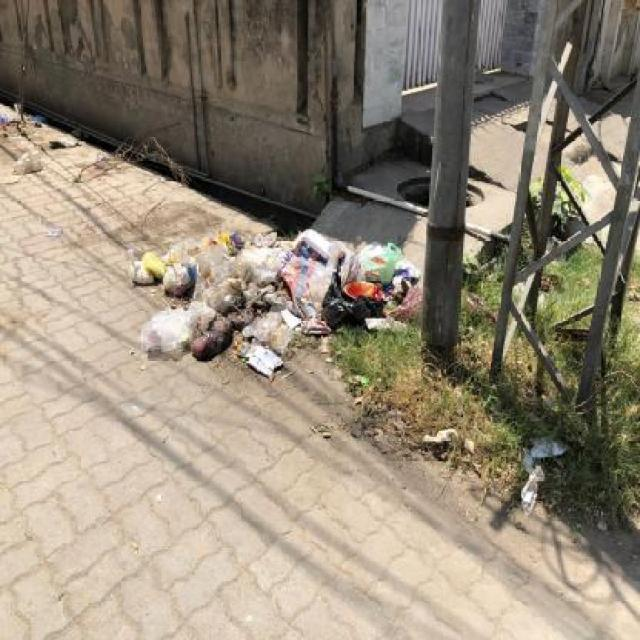garbage: (2, 97, 596, 538)
